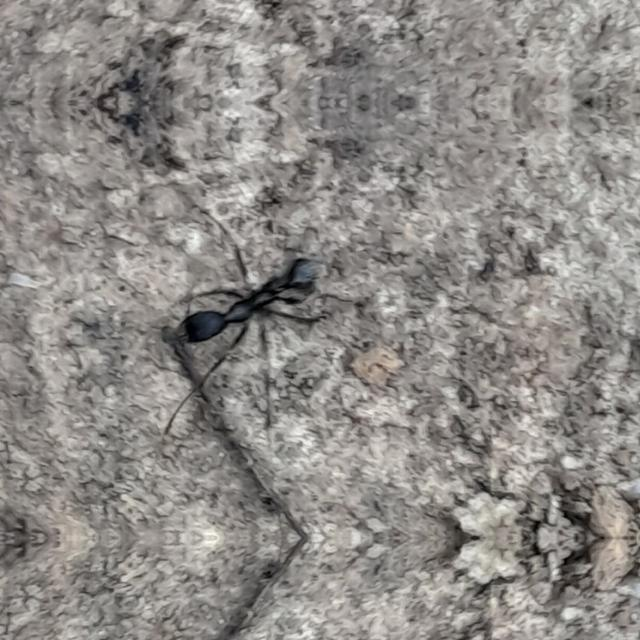Apheanogaster: (150, 238, 352, 374)
